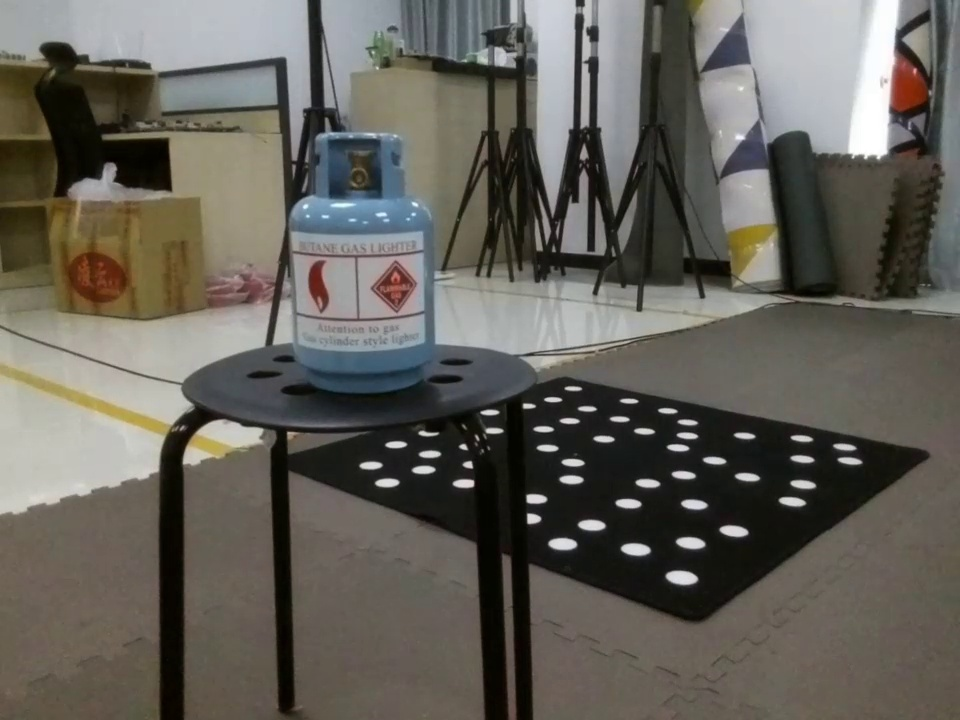gas tank: (273, 128, 451, 398)
